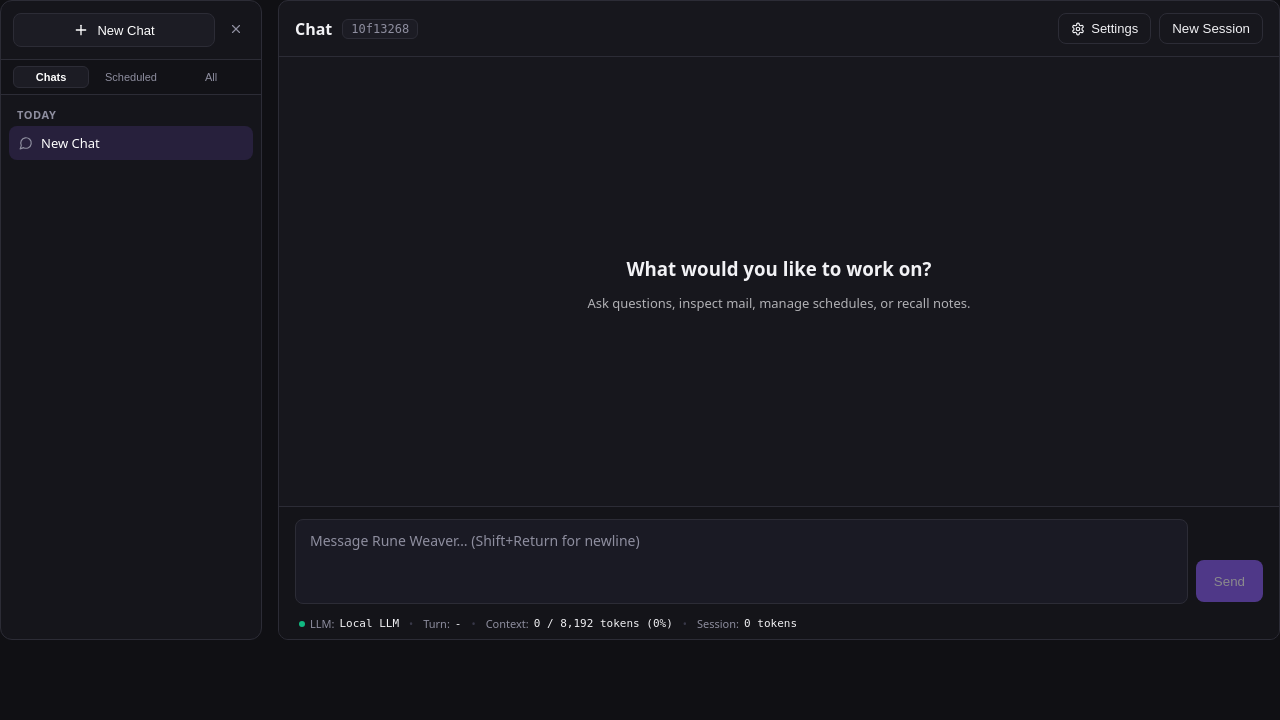
Test case: ChatView › prevents browser autofill and supports Enter to send
Type "message with Enter" into the text box named "Chat input" at {"x": 741, "y": 562}, box [295,519,1188,604]
Then press Enter
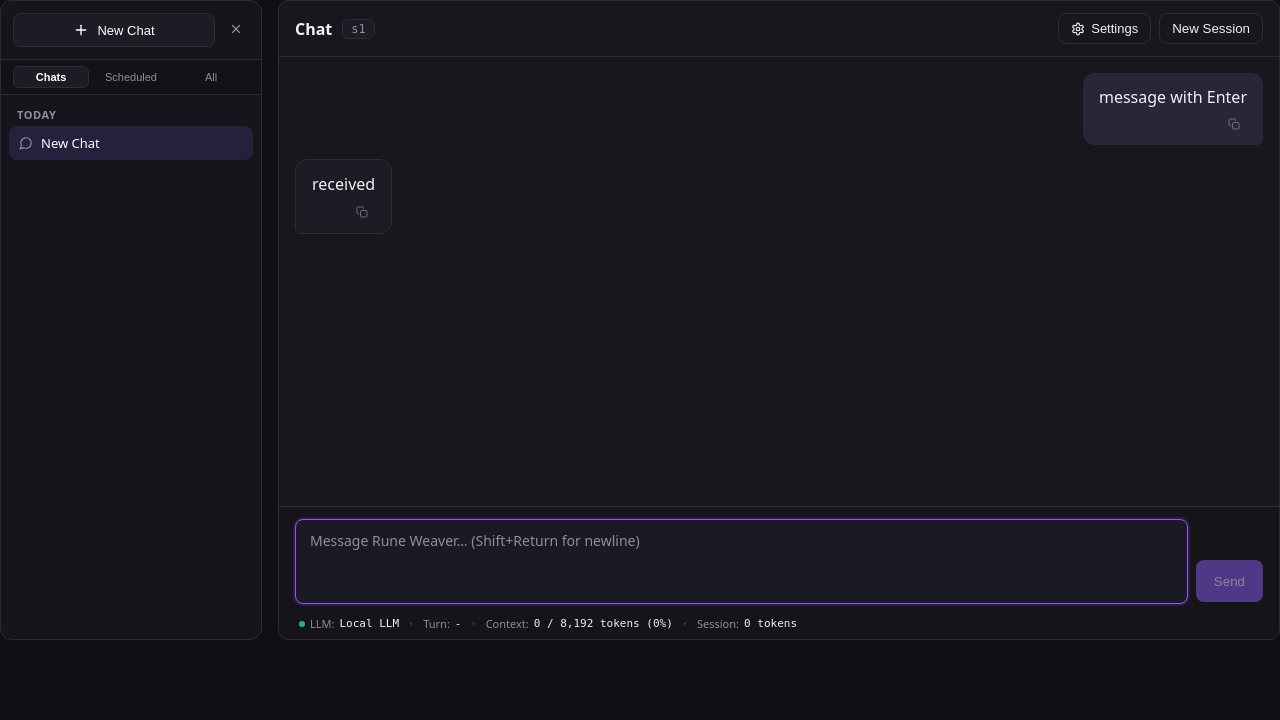
Now the text "received" is shown, box [312,172,375,197]
